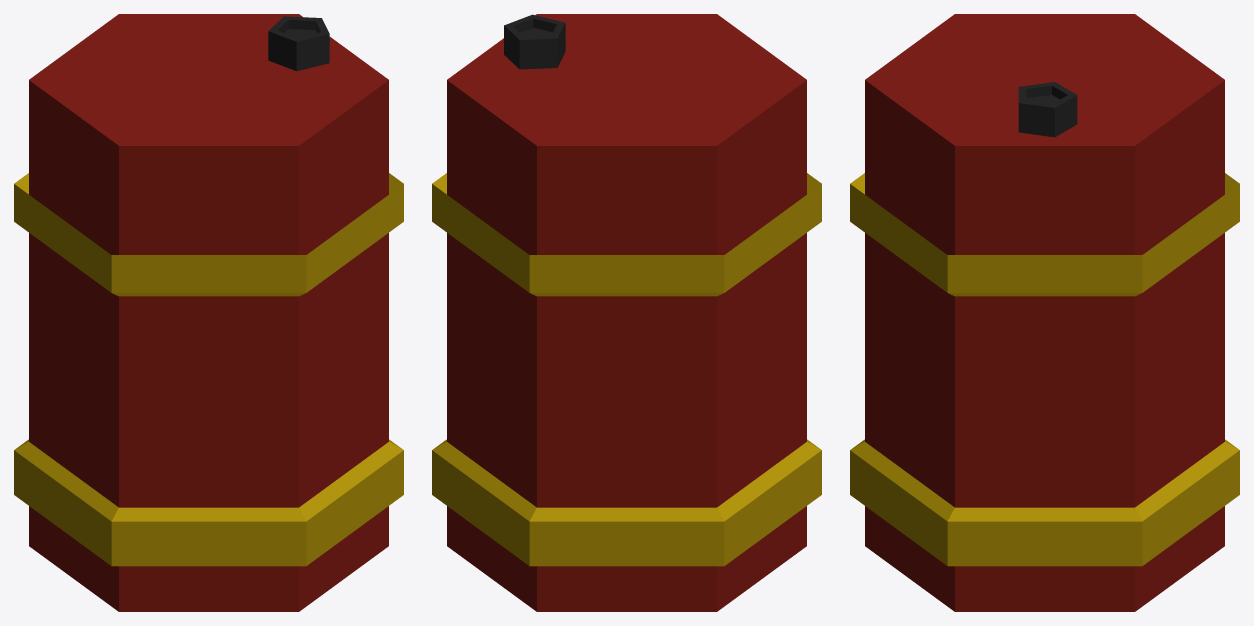
The model's file is Explosive_Barrel.glb.
The picture shows the model from 3 angles, left to right: view 1: azimuth 30°, elevation 25°; view 2: azimuth 150°, elevation 25°; view 3: azimuth 270°, elevation 25°; orthographic projection.
Parts seen in each view (by area): view 1: Explosive_Barrel; view 2: Explosive_Barrel; view 3: Explosive_Barrel.
Part boxes in pixels (x1,y1,x2,y2): Explosive_Barrel: (14,14,403,611); Explosive_Barrel: (432,14,821,611); Explosive_Barrel: (850,14,1239,611).
Bounding box in the file's own units: 0.9613 × 1.56 × 1.11.
